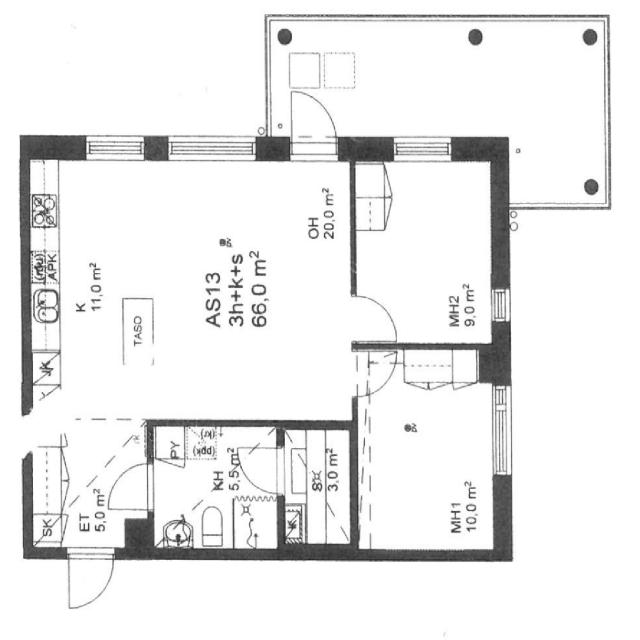door: (129, 154, 345, 426), (286, 86, 344, 158), (64, 546, 118, 612), (104, 456, 158, 520), (348, 286, 405, 344), (237, 441, 288, 497), (353, 346, 401, 397)
window: (486, 376, 519, 486), (163, 131, 261, 166), (384, 130, 460, 167), (80, 131, 152, 166), (486, 281, 514, 327)
zone: (356, 344, 499, 554), (350, 152, 497, 346), (148, 421, 284, 552), (25, 414, 149, 552), (280, 425, 352, 554), (96, 444, 157, 527)
